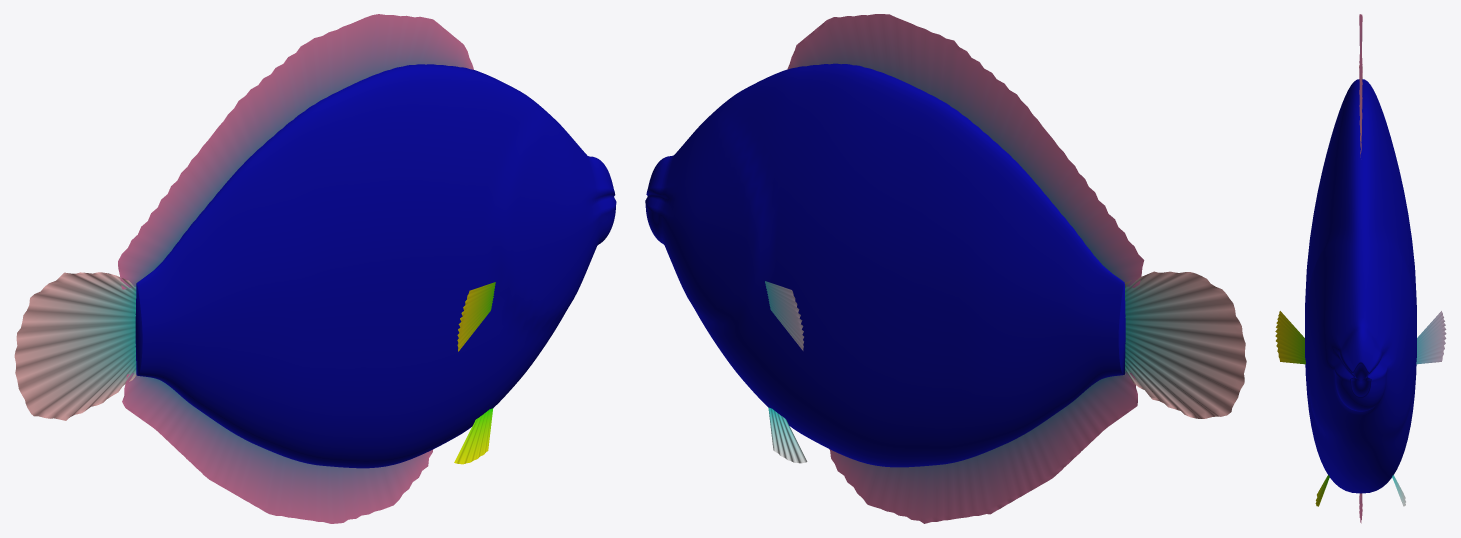
File: discus.glb
3 views of the same model, side by side, from view 1: azimuth 30°, elevation 25°; view 2: azimuth 150°, elevation 25°; view 3: azimuth 270°, elevation 25° (orthographic). The views are drawn at different scales.
Visible parts, largest first — view 1: discus; view 2: discus; view 3: discus.
Boxes of the visible parts, x1=… form: discus: x1=14, y1=14, x2=616, y2=523; discus: x1=645, y1=14, x2=1246, y2=523; discus: x1=1275, y1=14, x2=1446, y2=523.
Bounding box in the file's own units: 1.25 × 1 × 0.3221.
